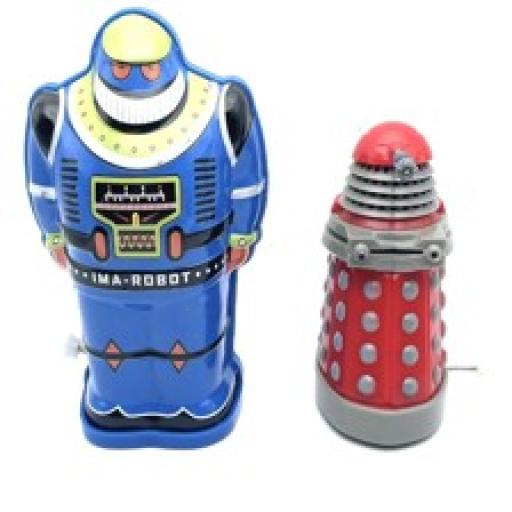dalek: (304, 113, 450, 453)
